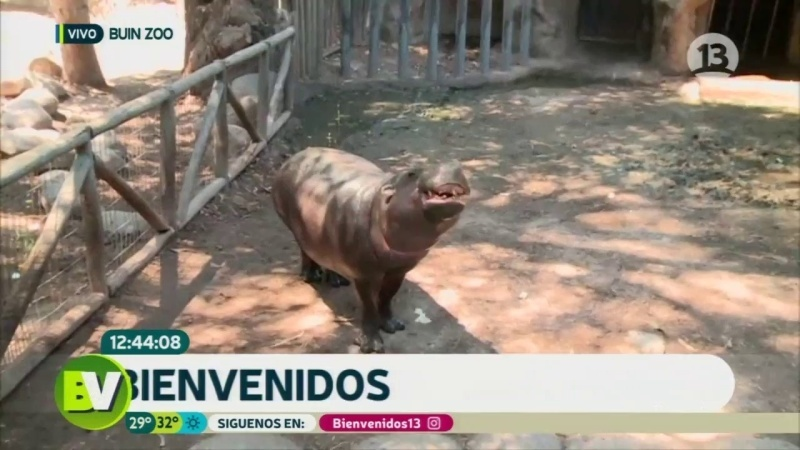hipopotamo: (260, 132, 487, 350)
